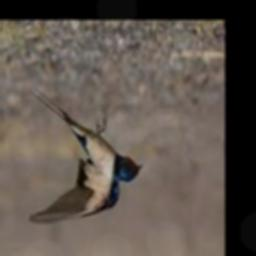Swallow: (28, 89, 142, 224)
